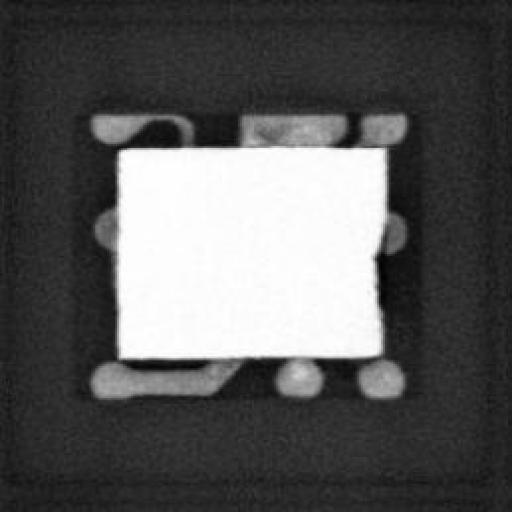DIE_BROKEN: (367, 237, 387, 313)
